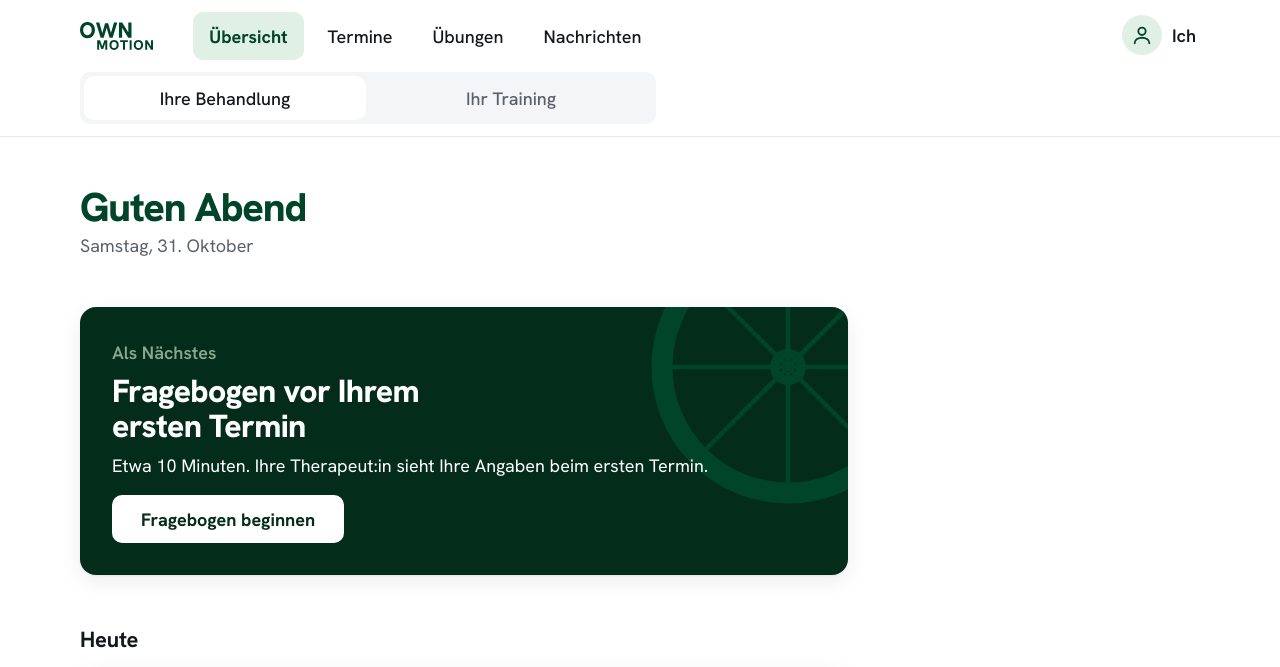
Test: PlattformApp › schaltet bei zwei Verhaeltnissen zwischen Behandlung und Training (D6)
Check: the navigation bar named "Bereich" is shown, box [80,72,656,124]
Click the link "Ihr Training".
click(511, 98)  # box [466,86,556,110]
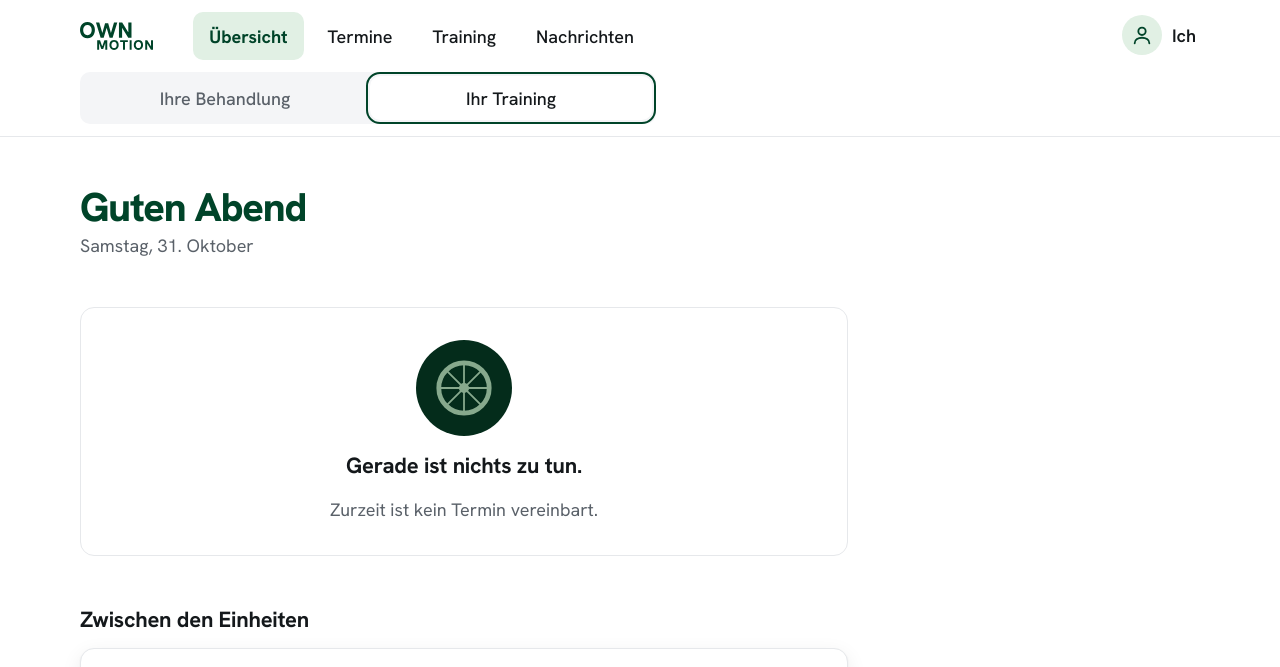
Check: the link "Training" is shown, box [432,24,496,48]
